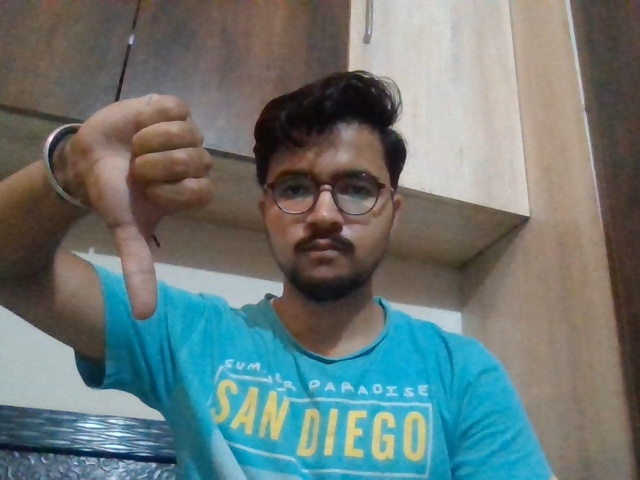no: (40, 78, 234, 315)
